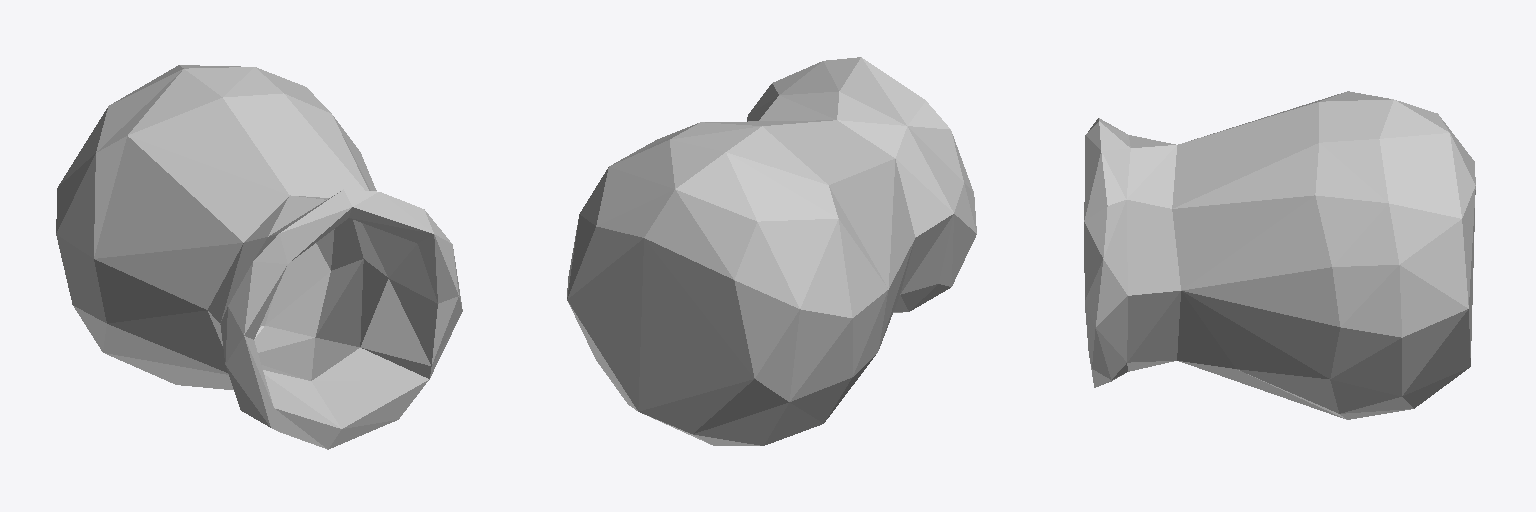
The model's file is Vase08.obj.
3 views of the same model, side by side, from view 1: azimuth 30°, elevation 25°; view 2: azimuth 150°, elevation 25°; view 3: azimuth 270°, elevation 25° (orthographic).
Visible parts, largest first — view 1: Vase_08_Cylinder.012; view 2: Vase_08_Cylinder.012; view 3: Vase_08_Cylinder.012.
Boxes of the visible parts, x1,y1,x2,y2 form: Vase_08_Cylinder.012: [56, 65, 462, 449]; Vase_08_Cylinder.012: [567, 57, 976, 445]; Vase_08_Cylinder.012: [1084, 91, 1475, 419].
Bounding box in the file's own units: 43.28 × 43.37 × 51.55.